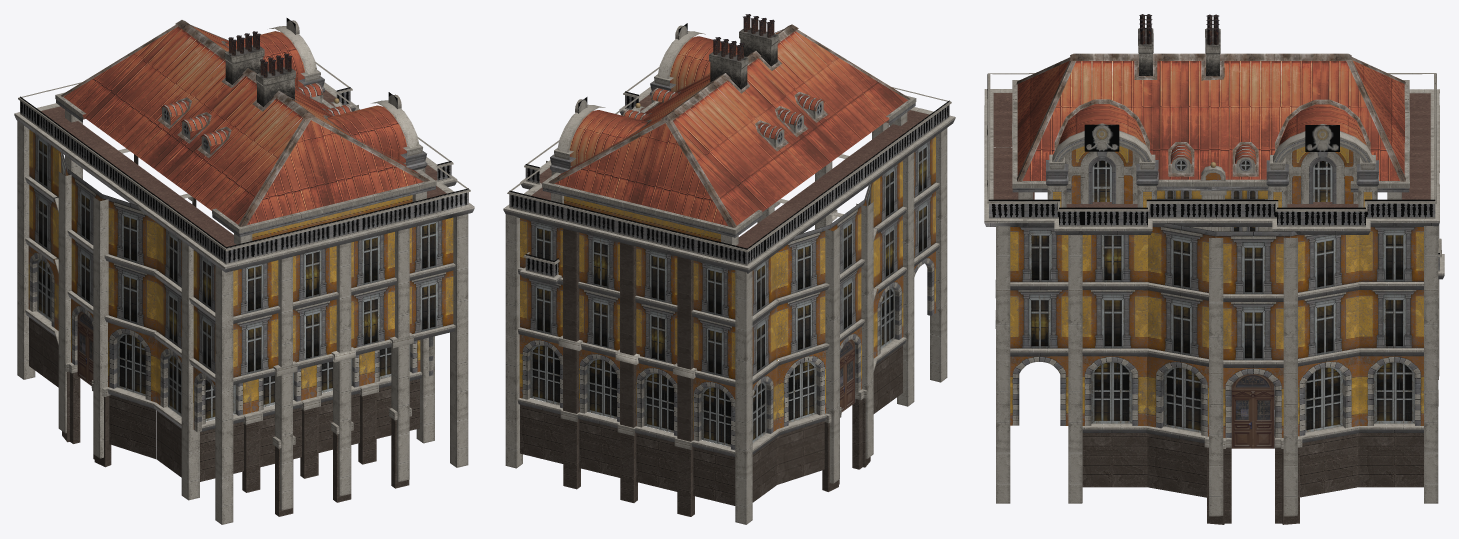
The model's file is tier2_city_end.gltf.
The picture shows the model from 3 angles, left to right: view 1: azimuth 30°, elevation 25°; view 2: azimuth 150°, elevation 25°; view 3: azimuth 270°, elevation 25°; orthographic projection. The views are drawn at different scales.
Visible parts, largest first — view 1: chimney.002; view 2: chimney.002; view 3: chimney.002.
Part boxes in pixels (x1,y1,x2,y2): chimney.002: [14, 18, 474, 524]; chimney.002: [503, 14, 955, 524]; chimney.002: [984, 14, 1444, 524].
Bounding box in the file's own units: 2.36 × 3.03 × 2.96.
Materials: 1 (1 with a texture image).
